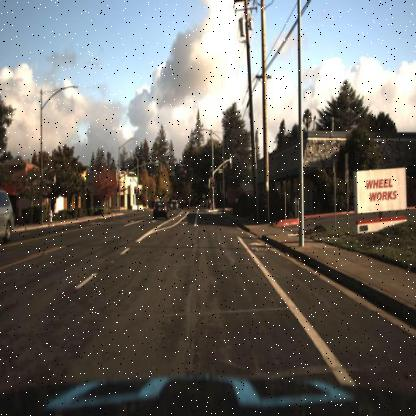car: (0, 188, 14, 244), (151, 198, 169, 222), (168, 197, 180, 213), (169, 200, 179, 210)
trafficLight-Red: (182, 168, 188, 181)
trafficLight-RedLeft: (132, 182, 138, 194)
